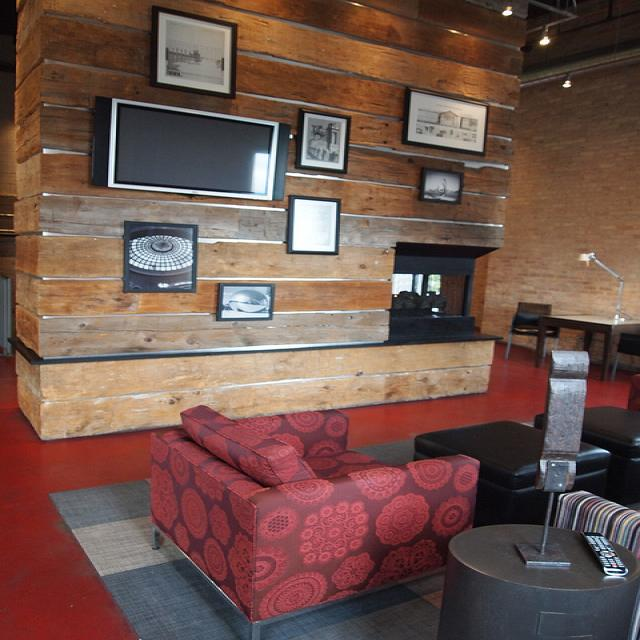chair: (147, 407, 479, 640), (505, 302, 560, 362), (610, 333, 640, 382)
dining table: (536, 314, 640, 381)
